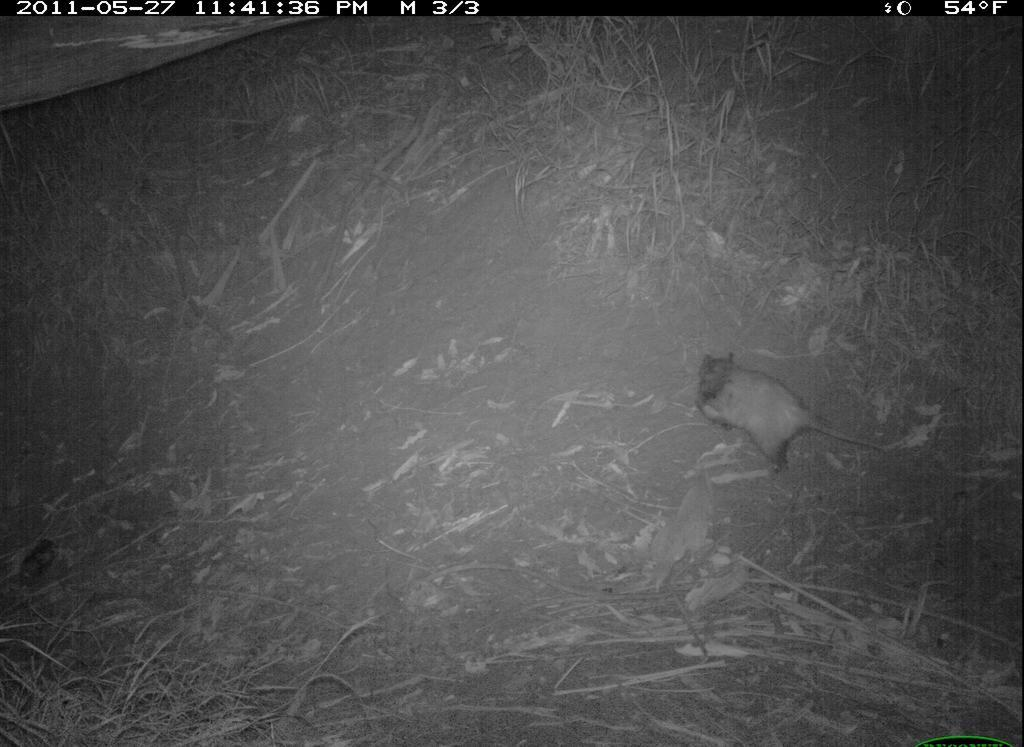opossum: (687, 350, 920, 488)
